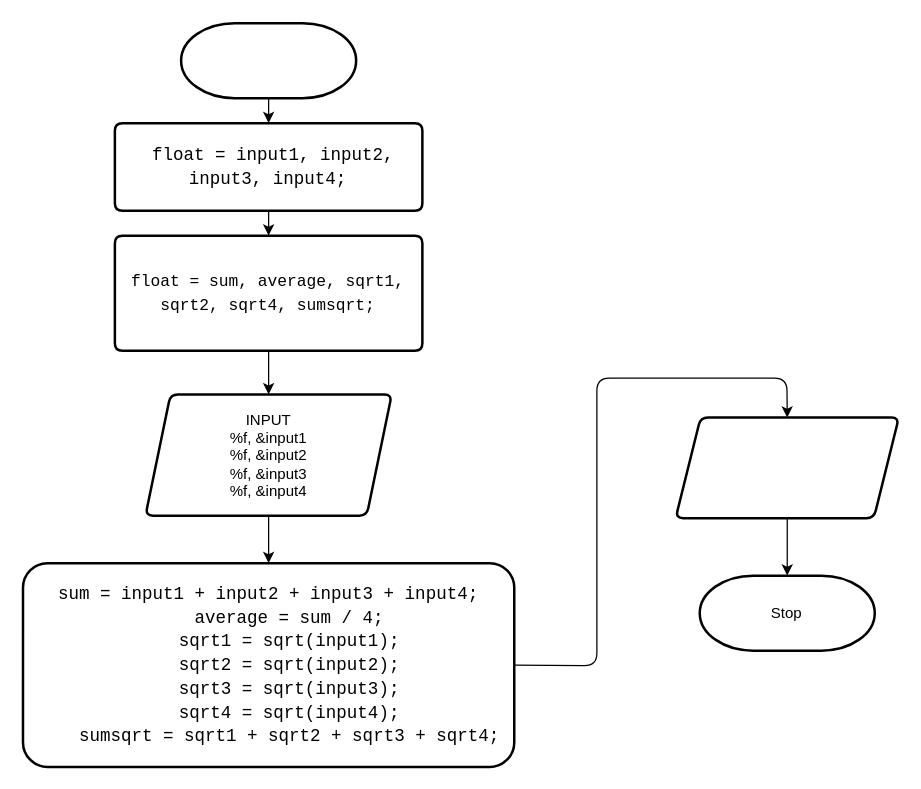
Some shapes in this 921 by 789 pixel diagram are drawn without their labels. The centre of each missing label's shape, as x and y in pixels:
PRINT %.2f, sum %.2f, average %,2fm, sumsqrt: the point at 787,467
Start: the point at 268,60
